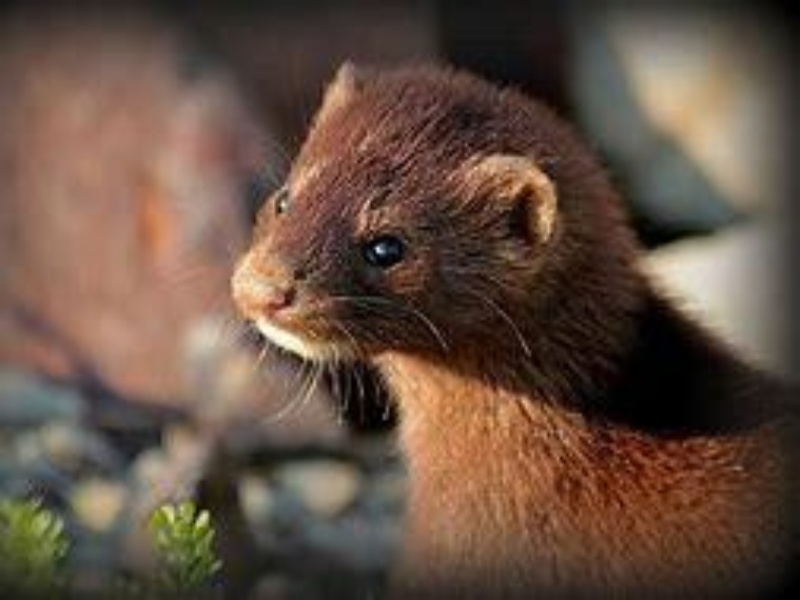minkish: (231, 53, 793, 590)
